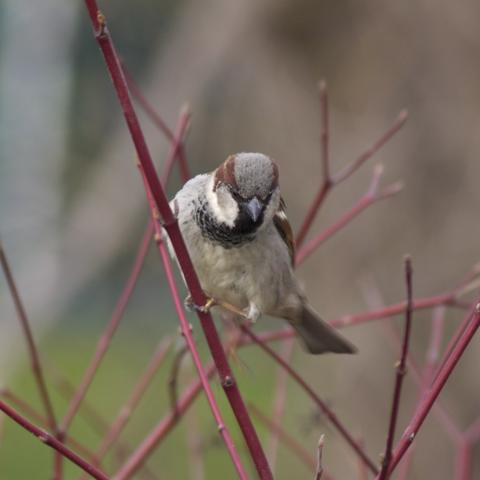bird: (152, 149, 360, 358)
